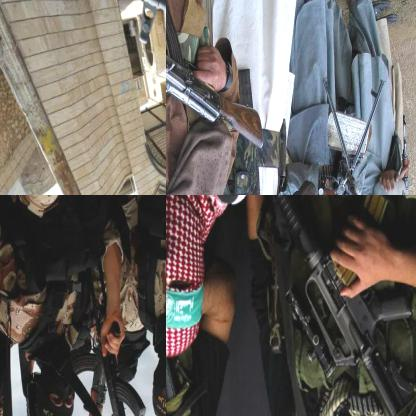rifle: (258, 195, 415, 415), (166, 0, 266, 151), (166, 195, 208, 415), (319, 74, 387, 194), (119, 0, 165, 157), (96, 317, 153, 415), (75, 337, 108, 415)
